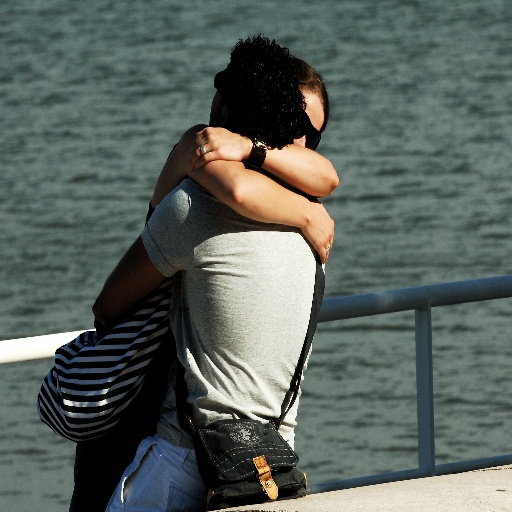hand: (188, 121, 248, 178), (299, 196, 335, 264)
